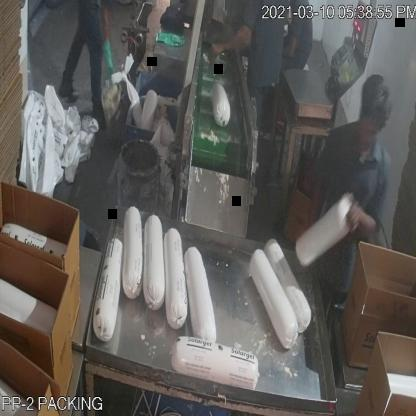no_glove: (206, 22, 255, 68), (346, 189, 380, 252)
